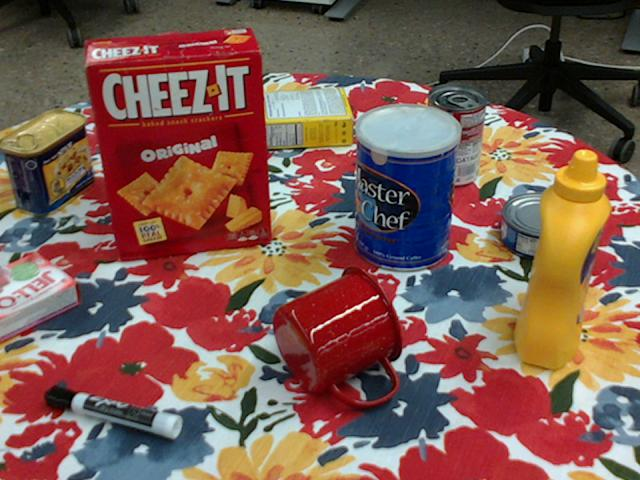cracker_box: (84, 28, 269, 258)
gelatin_box: (0, 252, 81, 343)
large_marker: (43, 384, 181, 438)
master_chef_can: (355, 104, 460, 273)
mug: (272, 265, 405, 407)
mustard_bottle: (514, 150, 609, 369)
potted_meat_can: (0, 108, 91, 215)
sugar_box: (209, 88, 351, 152)
tomato_soup_can: (423, 84, 486, 188)
tuna_fish_can: (500, 194, 584, 263)
